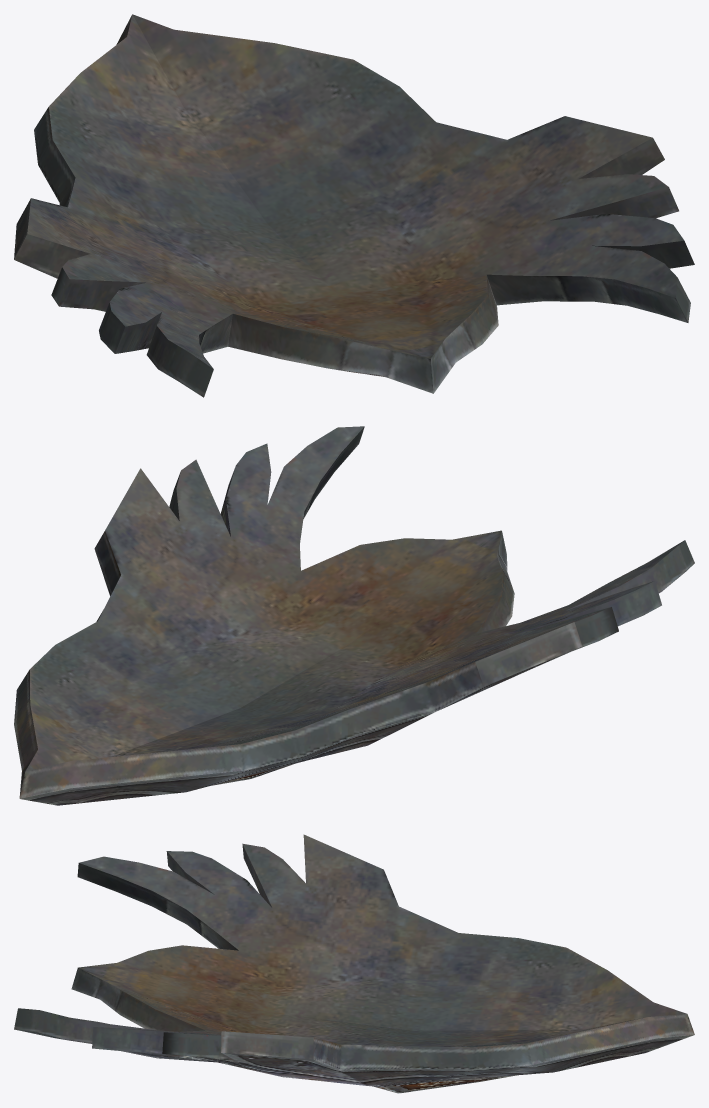
The picture shows the model from 3 angles, top to bottom: view 1: azimuth 30°, elevation 25°; view 2: azimuth 150°, elevation 25°; view 3: azimuth 270°, elevation 25°; orthographic projection. The views are drawn at different scales.
Visible parts, largest first — view 1: i100012; view 2: i100012; view 3: i100012.
Boxes of the visible parts, x1=… form: i100012: x1=14, y1=14, x2=694, y2=397; i100012: x1=14, y1=426, x2=694, y2=805; i100012: x1=14, y1=834, x2=694, y2=1093.
Bounding box in the file's own units: 48.47 × 16.63 × 68.1.
1 material, 1 textured.
